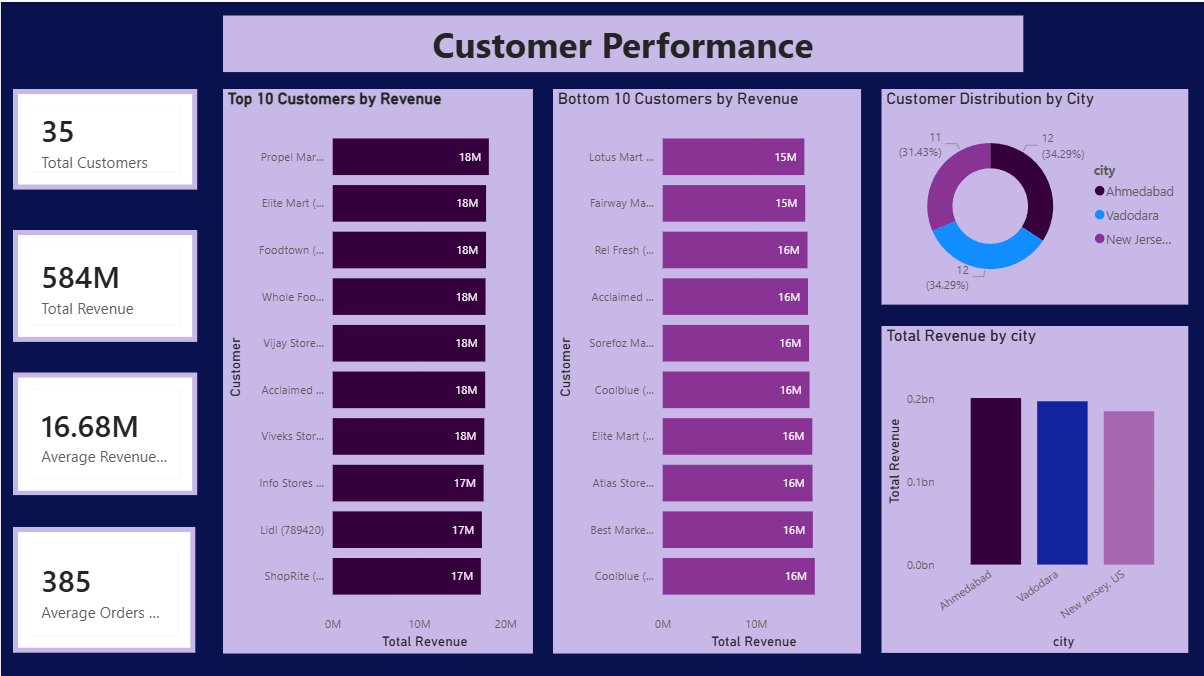

What the dashboard file says about the page in this screenshot:
{"tool":"powerbi","page":{"name":"Page 2","canvas":[1280,720],"ordinal":1},"visuals":[{"type":"textbox","box":[235,15,848.3,60],"z":0},{"type":"cardVisual","fields":{"Data":["dim_customers.Total Customers"]},"box":[13.3,91.7,195,106.7],"z":1000},{"type":"cardVisual","fields":{"Data":["dim_customers.Total Revenue"]},"box":[13.3,241.7,195,118.3],"z":2000},{"type":"cardVisual","fields":{"Data":["dim_customers.Average Revenue per Customer"]},"box":[13.3,393.3,195,130],"z":3000},{"type":"cardVisual","fields":{"Data":["dim_customers.Average Orders per Customer"]},"box":[13.3,556.7,193.3,133.3],"z":4000},{"type":"clusteredColumnChart","fields":{"Category":["dim_customers.city"],"Y":["dim_customers.Total Revenue"]},"box":[933.3,343.3,325,346.7],"z":5000},{"type":"donutChart","title":"Customer Distribution by City","fields":{"Category":["dim_customers.city"],"Y":["CountNonNull(dim_customers.customer_id)"]},"box":[933.3,91.7,325,228.3],"z":6000},{"type":"clusteredBarChart","title":"Bottom 10 Customers by Revenue","fields":{"Category":["dim_customers.Customer"],"Y":["dim_customers.Total Revenue"]},"box":[585,91.7,326.7,598.3],"z":7000},{"type":"clusteredBarChart","title":"Top 10 Customers by Revenue","fields":{"Category":["dim_customers.Customer"],"Y":["dim_customers.Total Revenue"]},"box":[235,91.7,328.3,598.3],"z":8000}]}

Visuals, with their boxes in screenshot pixels (x1, y1, x2, y2), scaled from the page's 1280x720 canvas onto the 1204x676 screenshot:
textbox: <region>221, 14, 1019, 70</region>
cardVisual - dim_customers.Total Customers: <region>13, 86, 196, 186</region>
cardVisual - dim_customers.Total Revenue: <region>13, 227, 196, 338</region>
cardVisual - dim_customers.Average Revenue per Customer: <region>13, 369, 196, 491</region>
cardVisual - dim_customers.Average Orders per Customer: <region>13, 523, 194, 648</region>
clusteredColumnChart - dim_customers.city x dim_customers.Total Revenue: <region>878, 322, 1184, 648</region>
"Customer Distribution by City" donutChart: <region>878, 86, 1184, 300</region>
"Bottom 10 Customers by Revenue" clusteredBarChart: <region>550, 86, 858, 648</region>
"Top 10 Customers by Revenue" clusteredBarChart: <region>221, 86, 530, 648</region>
